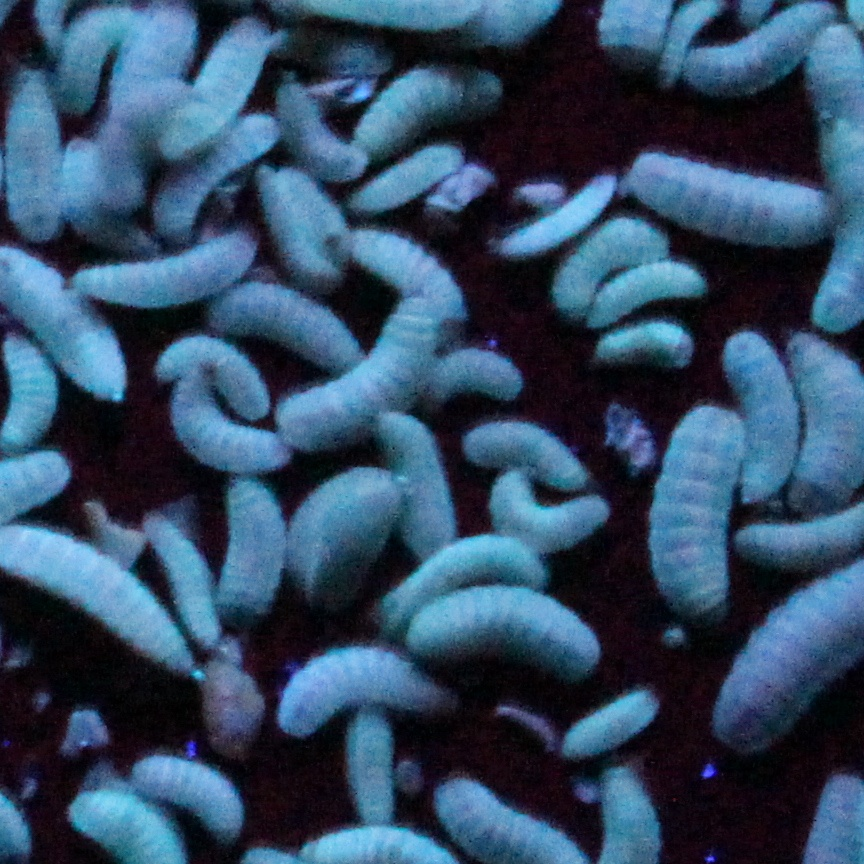larve: (282, 297, 431, 440), (394, 585, 601, 676), (639, 146, 835, 242), (649, 405, 735, 621), (388, 532, 550, 629), (288, 460, 400, 599), (166, 15, 270, 160), (158, 125, 284, 238), (80, 229, 254, 309), (281, 653, 435, 735), (717, 336, 794, 499), (156, 321, 272, 427), (682, 13, 831, 91), (380, 409, 458, 556), (217, 470, 288, 621), (339, 229, 466, 313), (352, 68, 472, 156), (486, 466, 617, 546), (203, 299, 364, 364), (174, 378, 286, 468), (550, 229, 676, 307), (464, 417, 588, 491), (7, 74, 60, 240), (266, 178, 341, 295), (262, 93, 368, 174), (329, 150, 474, 209), (141, 529, 219, 638), (134, 754, 244, 830), (54, 7, 129, 113), (503, 176, 601, 256), (592, 262, 707, 319), (409, 344, 525, 399), (563, 687, 648, 754), (350, 718, 394, 818)
